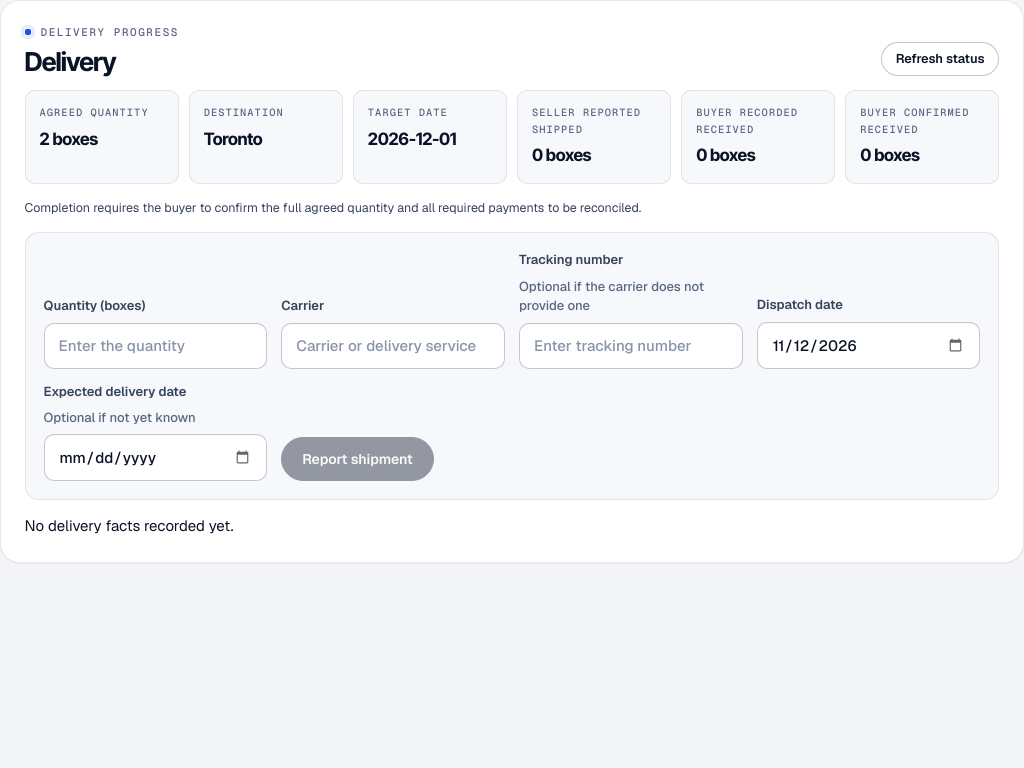
Scenario: FulfillmentPanel › shows access revocation when the capability check rejects a write
Expected: the text "Agreed quantity" is shown, x1=40 y1=105 x2=164 y2=122
Type "1" into the field labelled "Quantity (boxes)" at (155, 346), box x1=44 y1=323 x2=267 y2=369
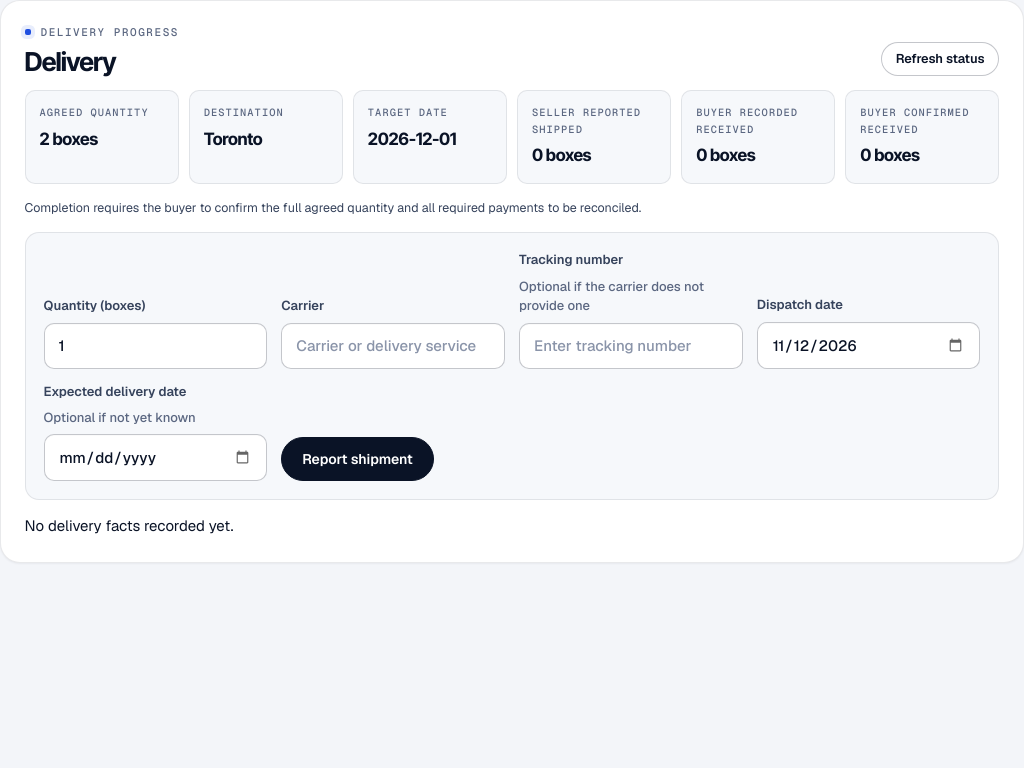
Type "DHL" into the field labelled "Carrier" at (393, 346), box x1=281 y1=323 x2=505 y2=369
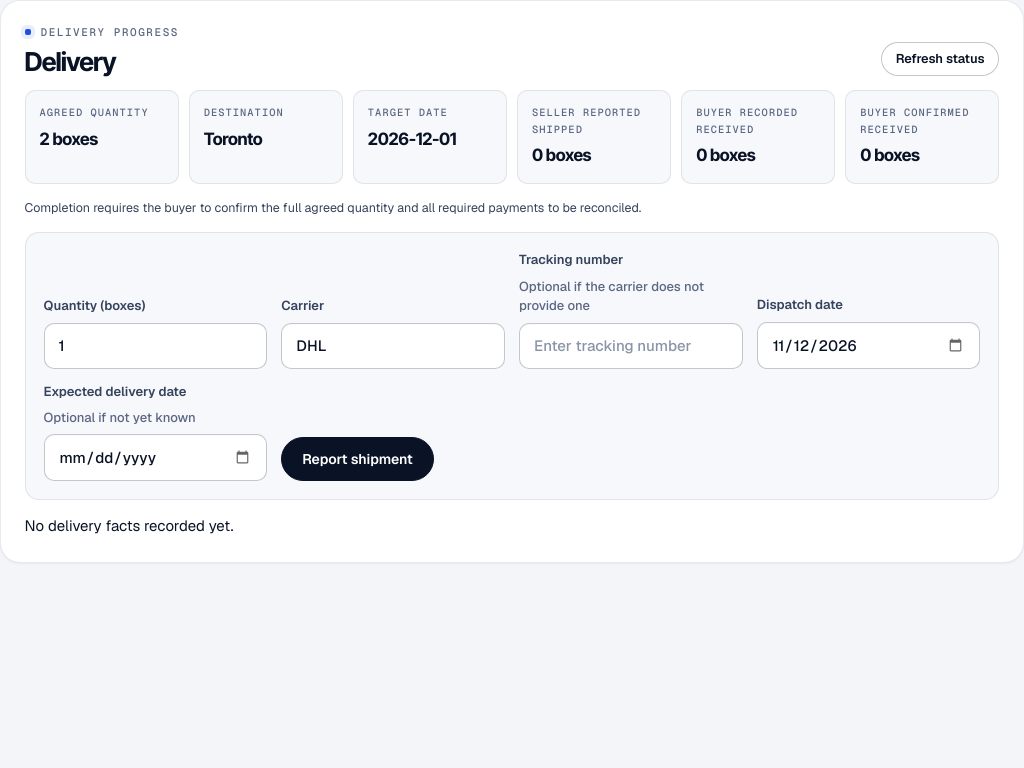
Type "2026-11-07" into the date field labelled "Dispatch date" at (869, 345), box x1=757 y1=322 x2=980 y2=369
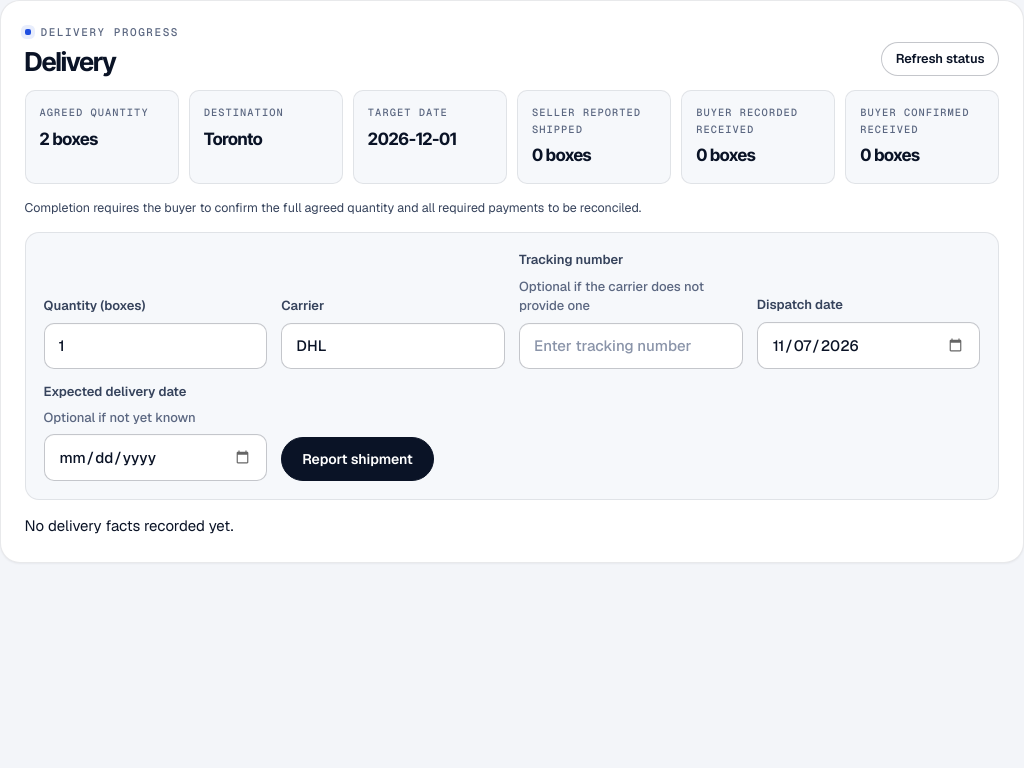
Click the button "Report shipment" at (358, 459), box x1=281 y1=437 x2=434 y2=481
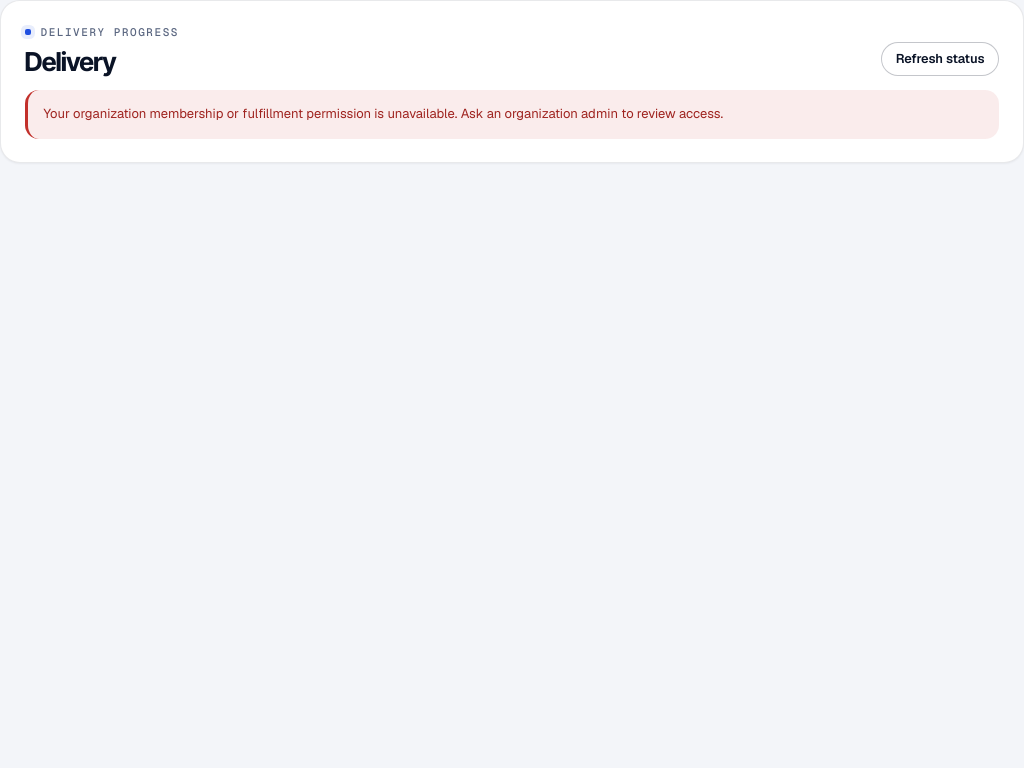
Now the text "membership or fulfillment permission is unavailable" is shown, box x1=44 y1=105 x2=723 y2=122
